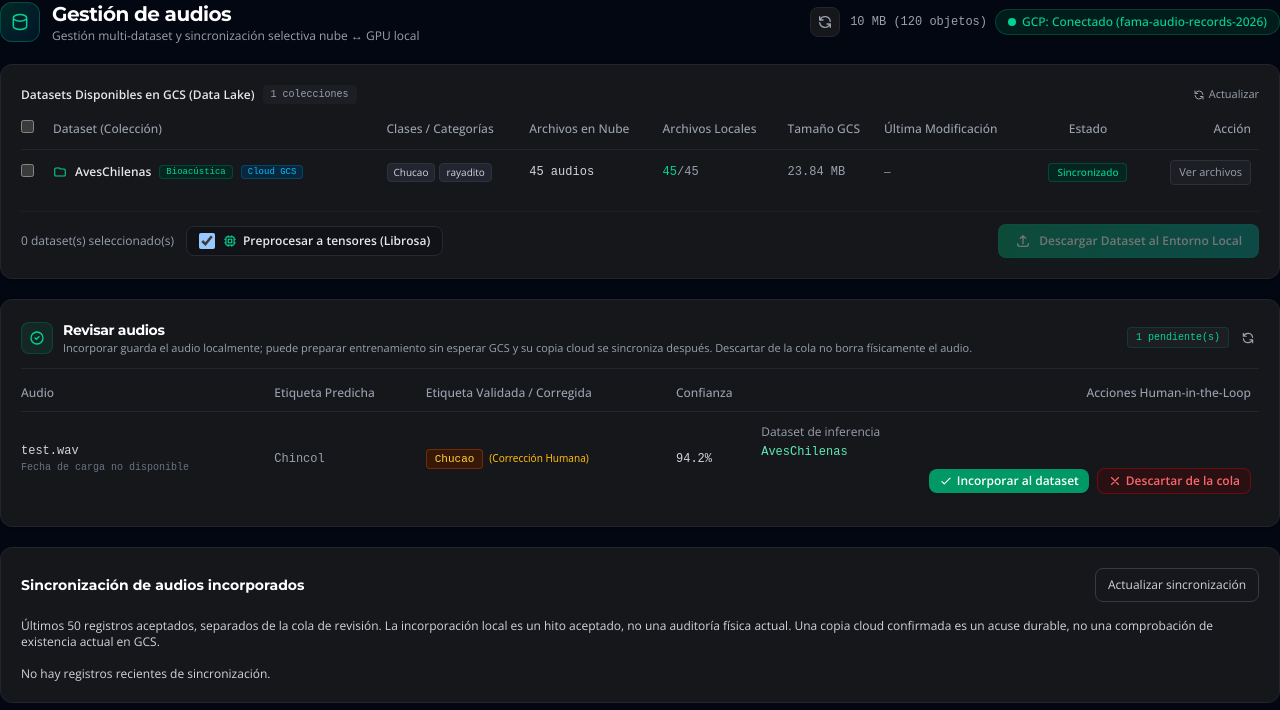
Test: IngestionView persisted inference dataset and curation › keeps accepted local audio visible separately while cloud is pending after approval
Click the button "Incorporar al dataset". click: (1009, 481)
box: top-left (929, 469), bottom-right (1089, 493)
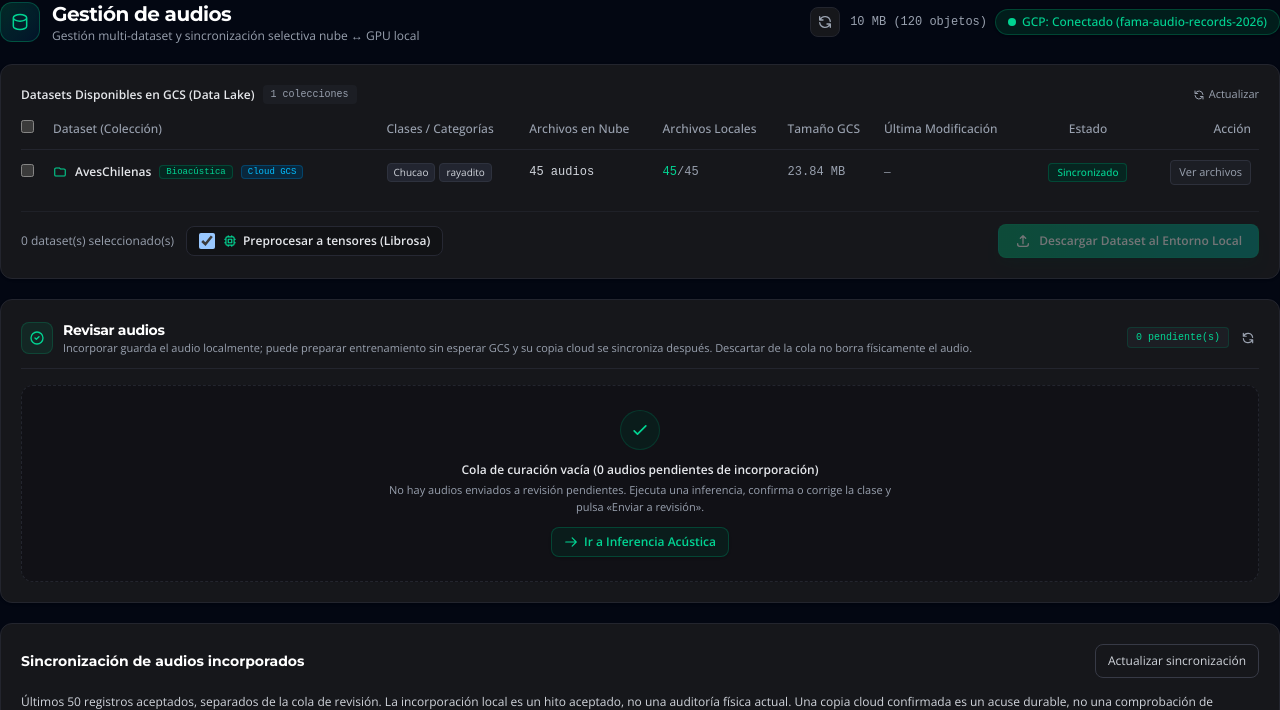
Expected: the text "puede preparar entrenamiento sin esperar GCS" is shown, top-left (63, 340), bottom-right (972, 355)
Expected: the message with test id "curation-queue-empty" is shown, top-left (21, 385), bottom-right (1259, 582)
